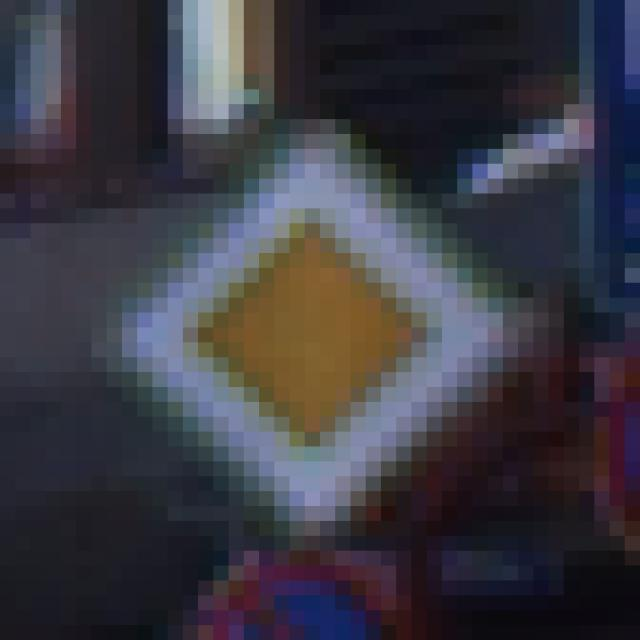Main Road: (77, 90, 565, 567)
